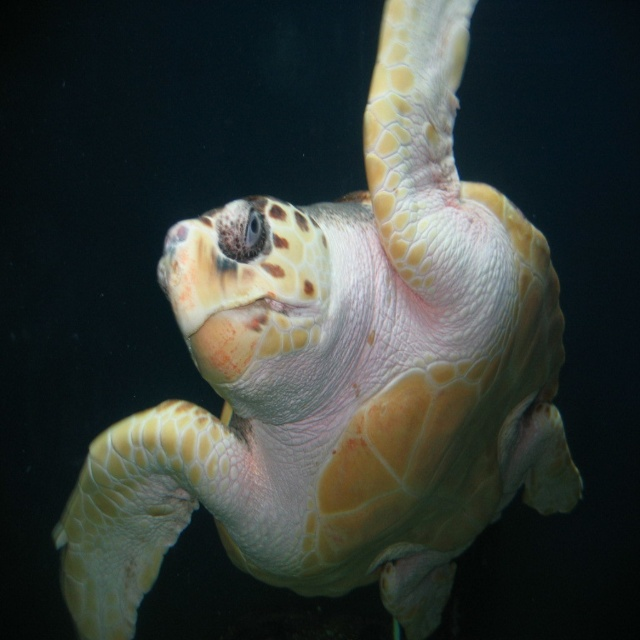Sea turtle: (52, 0, 589, 639)
